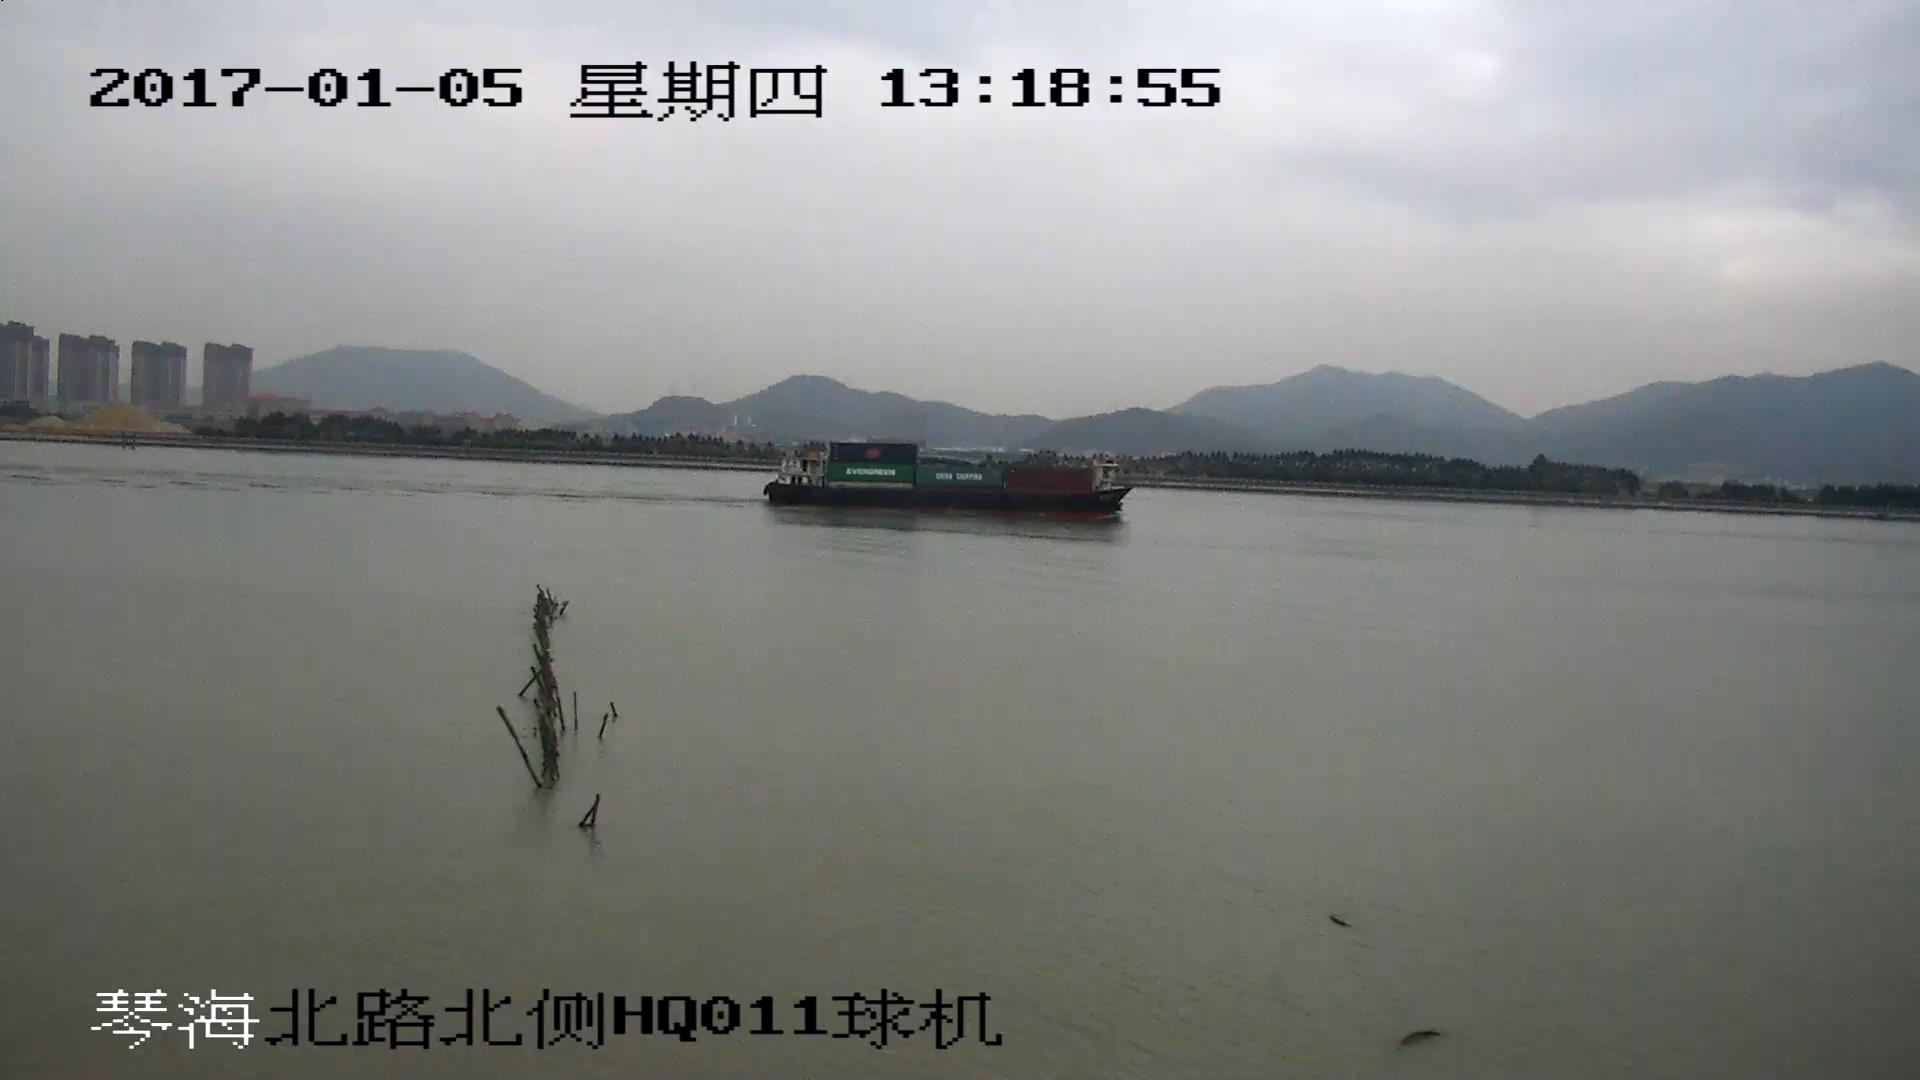container ship: (762, 444, 1132, 511)
